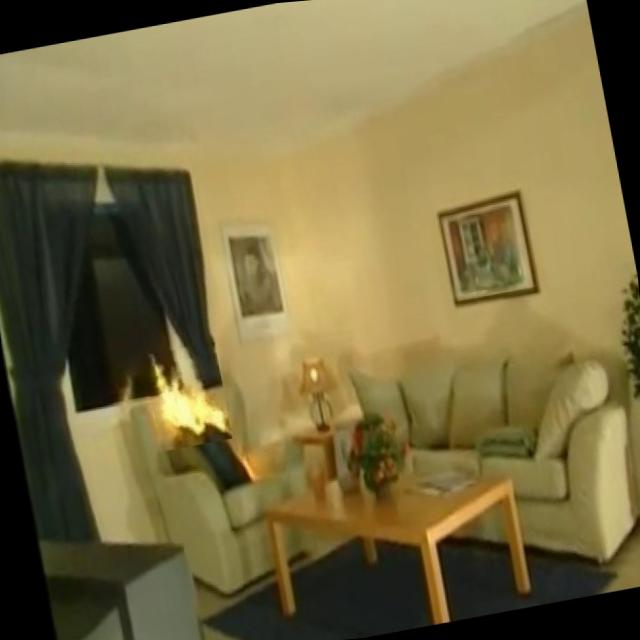fire: (128, 349, 227, 444)
